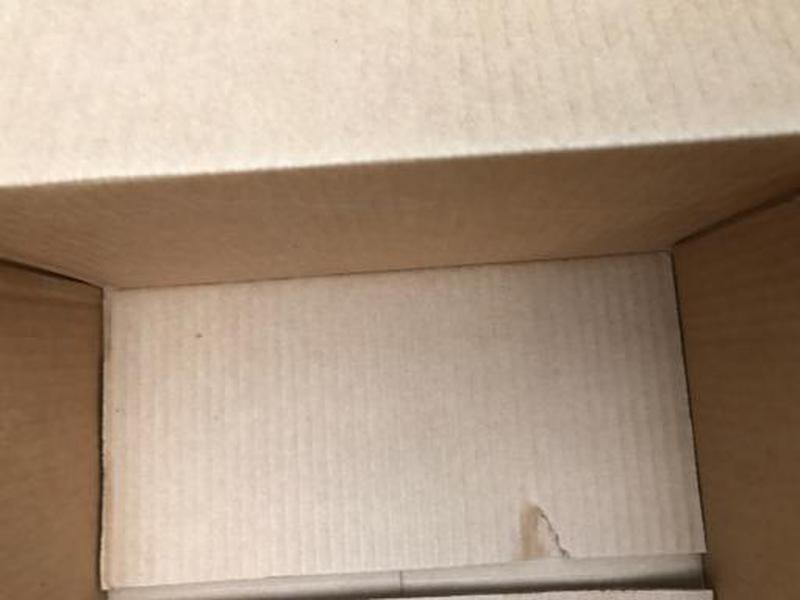cardboard: (1, 5, 800, 600)
